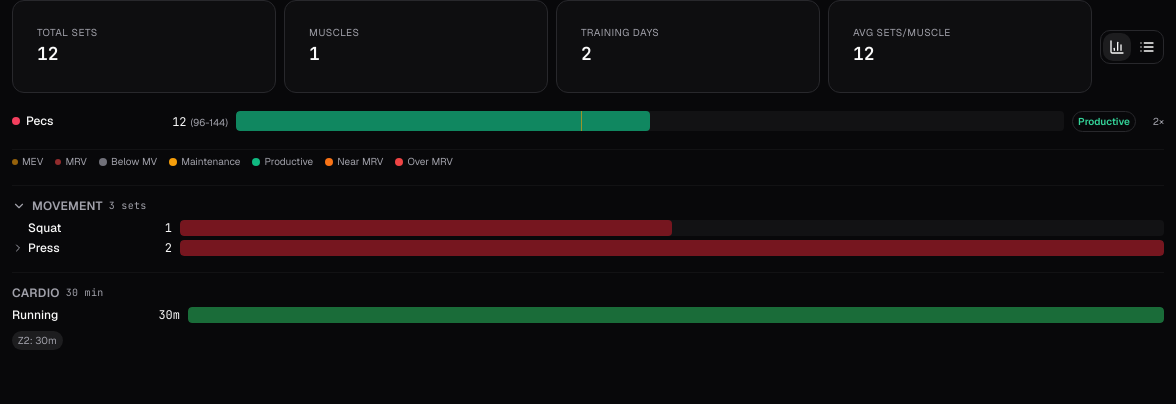
Test: VolumeOverview — multi-lens › flag-ON: shows the movement lens (S/P/H) with Press drill + the cardio minutes lens
Click the element showing "Press" at (36, 248), box [12,240,60,256]
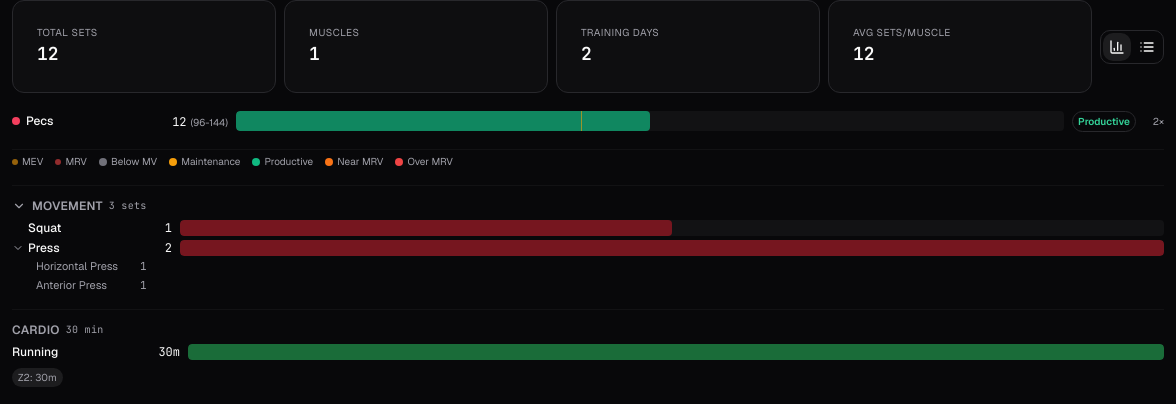
Check: the element that starts with "Total Sets" shows "Cardio", box [12,322,60,338]
Check: the element that starts with "Total Sets" shows "Horizontal Press", box [36,259,118,273]
Check: the element that starts with "Total Sets" shows "Anterior Press", box [36,278,107,292]
